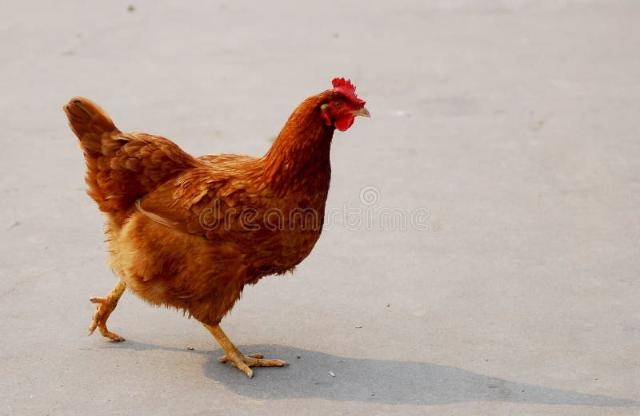Chicken: (66, 77, 371, 379)
